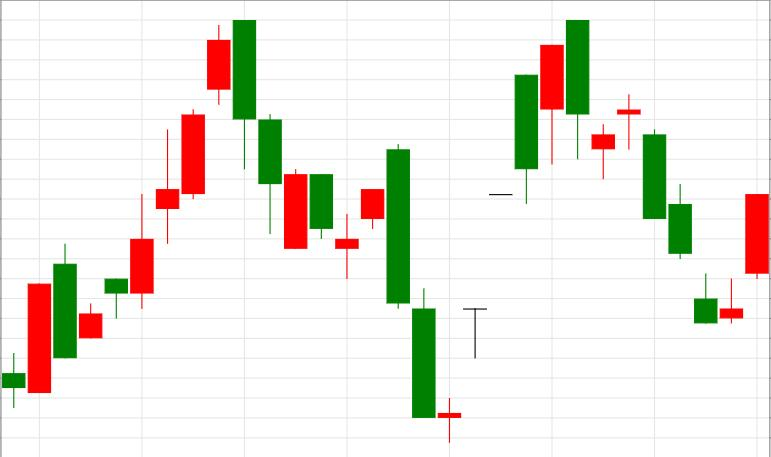bearish_engulfing_fall: (80, 20, 257, 339)
